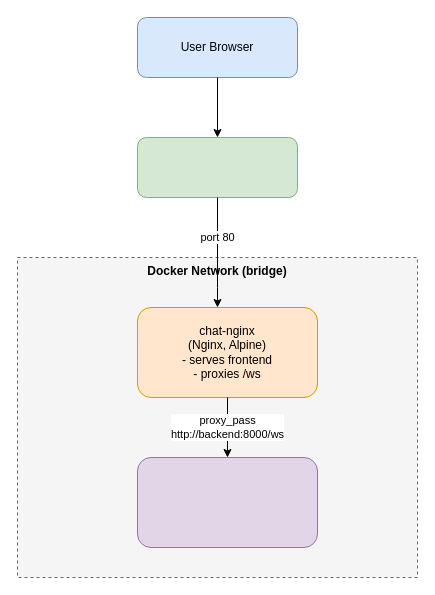
Some shapes in this 435 by 595 pixel diagram are drawn without their labels. The centre of each missing label's shape, as x and y in pixels:
"chat-backend (FastAPI / uvicorn) 0.0.0.0:8000" goes at point (227, 502).
"Public IP (Cloud VM, Port 80)" goes at point (217, 167).
